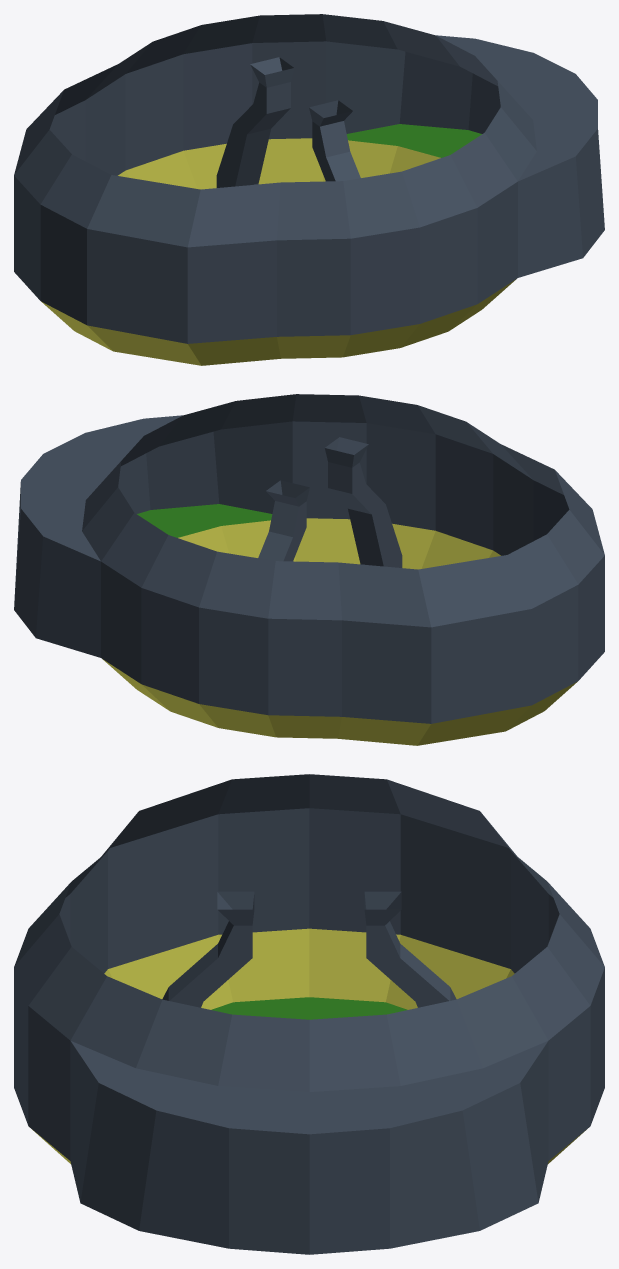
Rendered from Tag_Arena2.fbx.
3 renders of one model, top to bottom at view 1: azimuth 30°, elevation 25°; view 2: azimuth 150°, elevation 25°; view 3: azimuth 270°, elevation 25°, orthographic. The views are drawn at different scales.
Visible parts, largest first — view 1: Circle; view 2: Circle; view 3: Circle.
Boxes of the visible parts, left/top/right/bottom form: Circle: left=14, top=14, right=604, bottom=365; Circle: left=14, top=394, right=604, bottom=745; Circle: left=14, top=774, right=604, bottom=1254.
Bounding box in the file's own units: 2481 × 843 × 1900.
